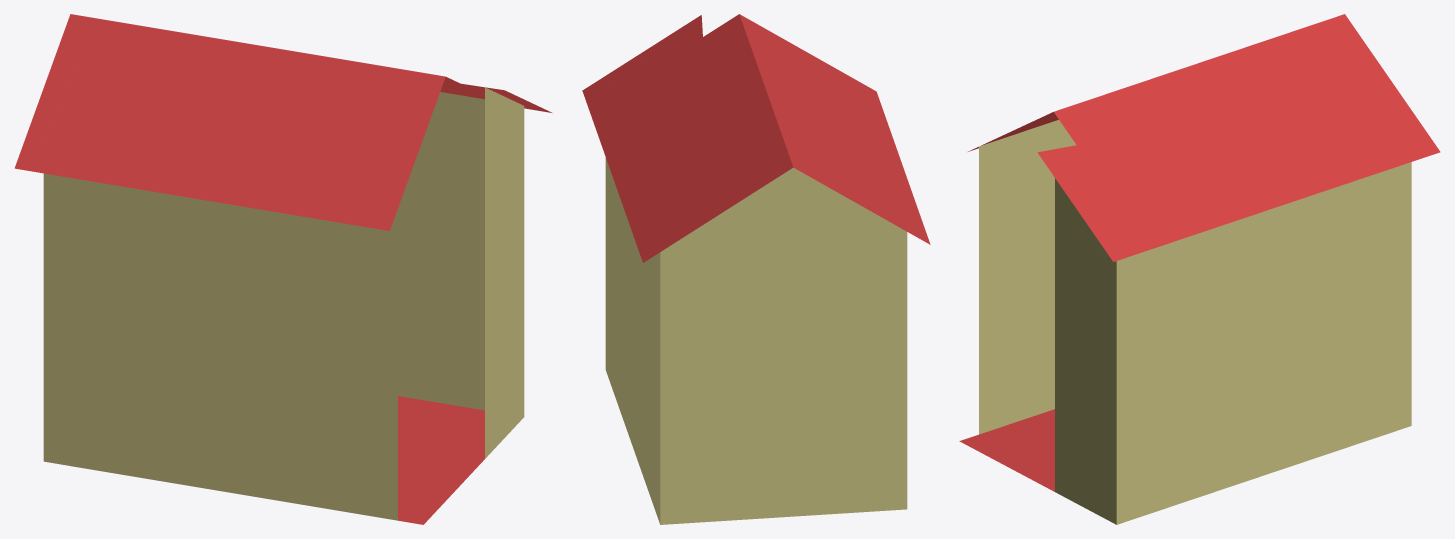
3 renders of one model, left to right at view 1: azimuth 30°, elevation 25°; view 2: azimuth 150°, elevation 25°; view 3: azimuth 270°, elevation 25°, orthographic. The views are drawn at different scales.
Size of the model in its own units: 11.84 by 11.62 by 9.65.
